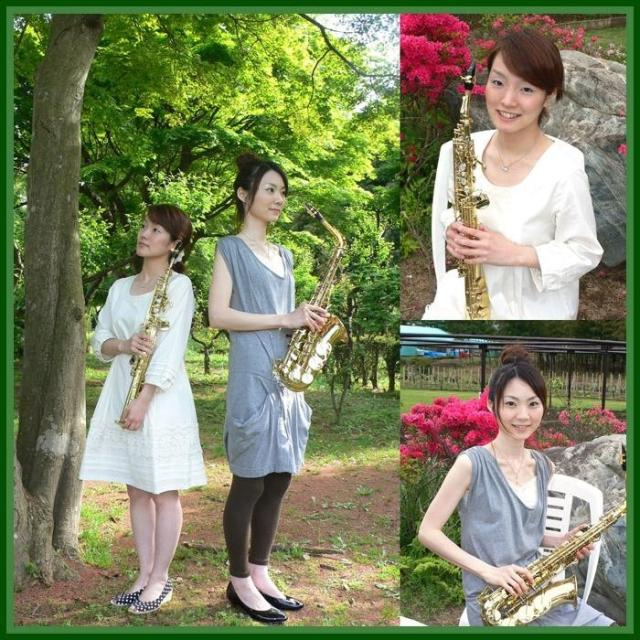saxophone: (473, 490, 637, 628), (272, 209, 362, 393)
